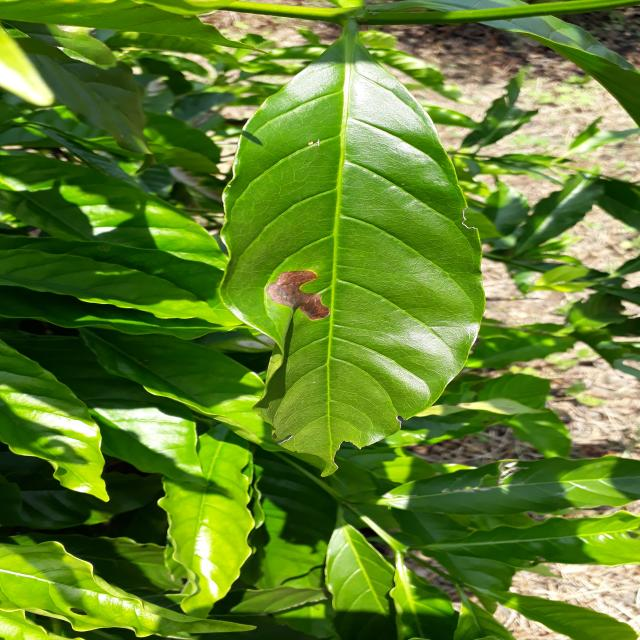Plaga-AranaRoja: (219, 60, 500, 472)
